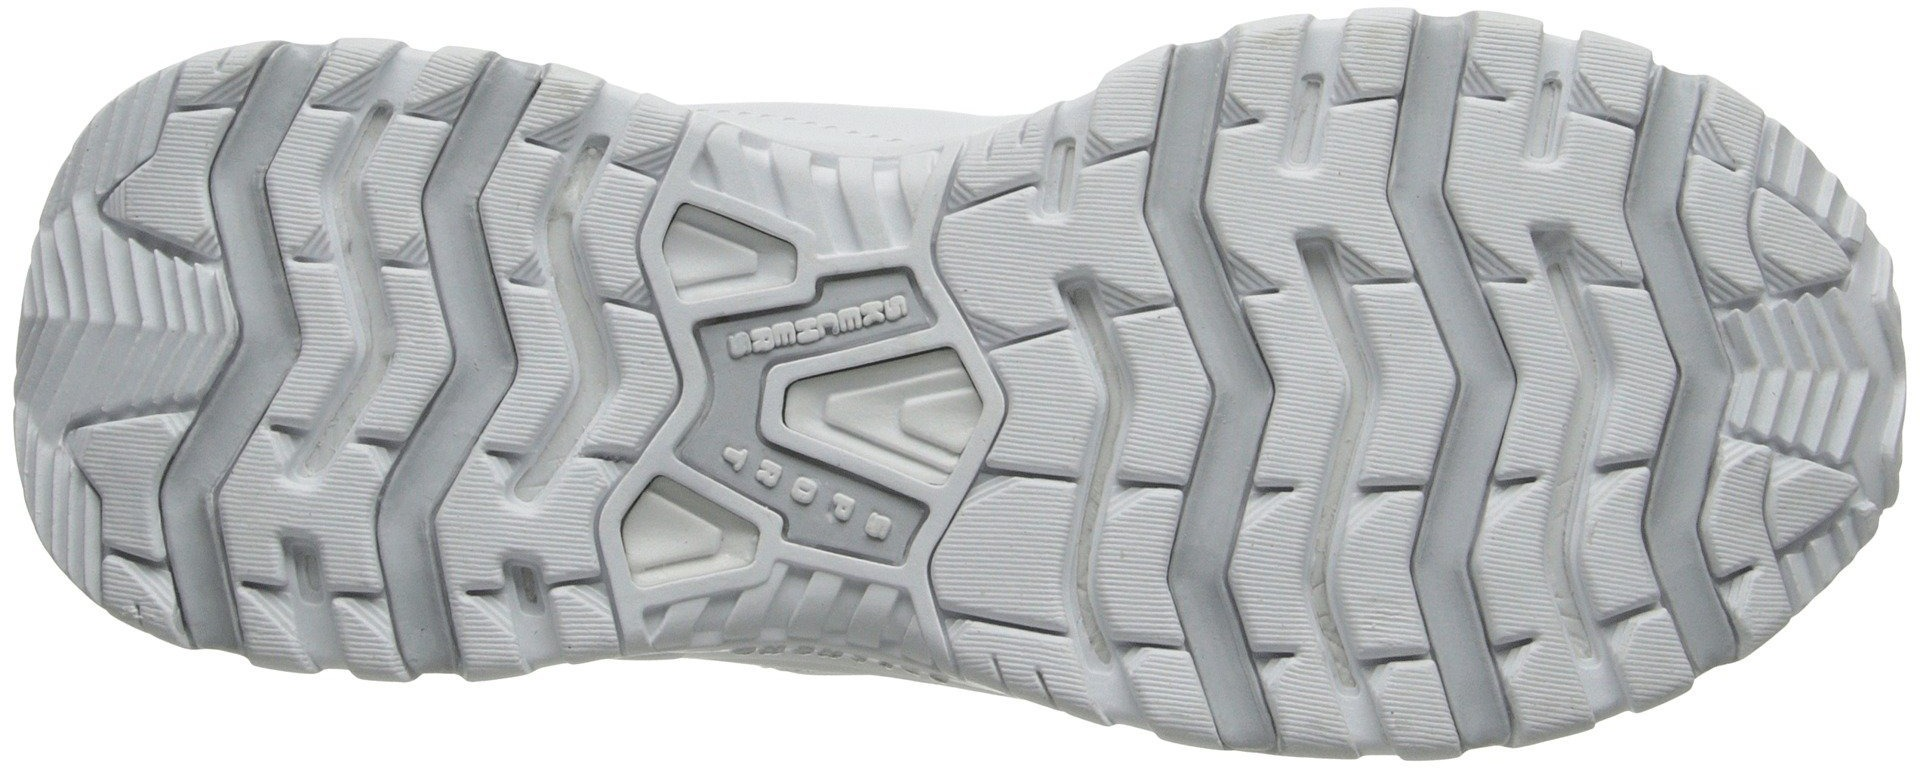chevron: (923, 43, 1221, 759)
